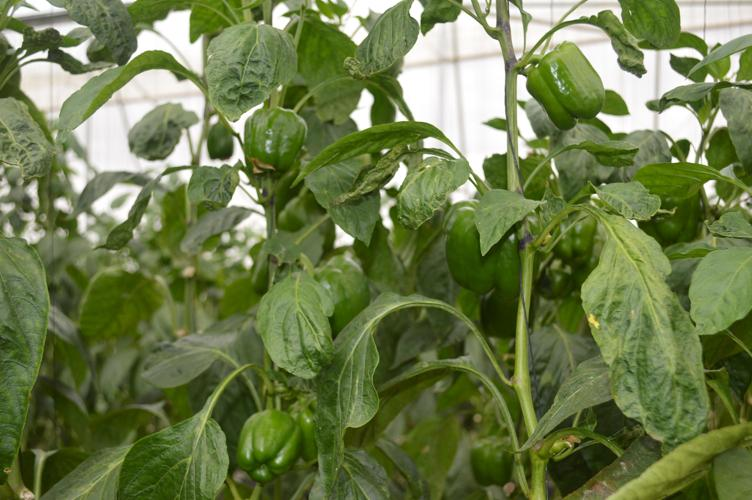BellPepper: (434, 201, 528, 305), (508, 43, 617, 130), (287, 248, 379, 331), (228, 409, 308, 487), (234, 104, 318, 175), (638, 176, 711, 252), (552, 201, 602, 274), (466, 437, 525, 494)
